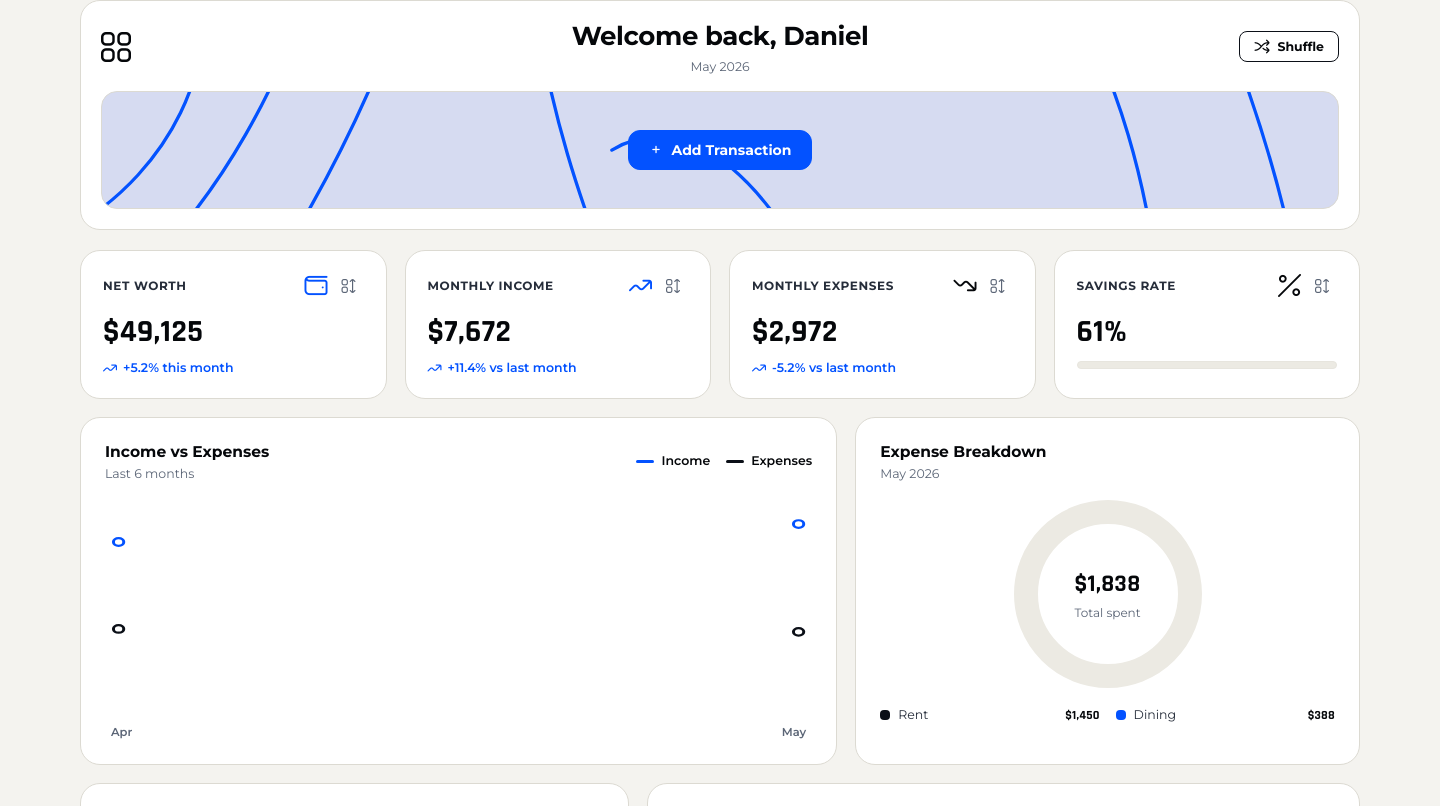
Motion.dev Patterns, Base UI Controls & Views › renders Dashboard KPI cards with Shuffle reorder and opens App Store shared-layout sheet
The image size is (1440, 806).
Expected: the heading "Welcome back, Daniel" is shown, [572, 17, 868, 56]
Expected: the text "61%" is shown, [1076, 312, 1128, 352]
// Test Shuffle reorder button (js-reorder-items)
Click the button "Shuffle" at (1289, 47), box [1240, 31, 1339, 62]
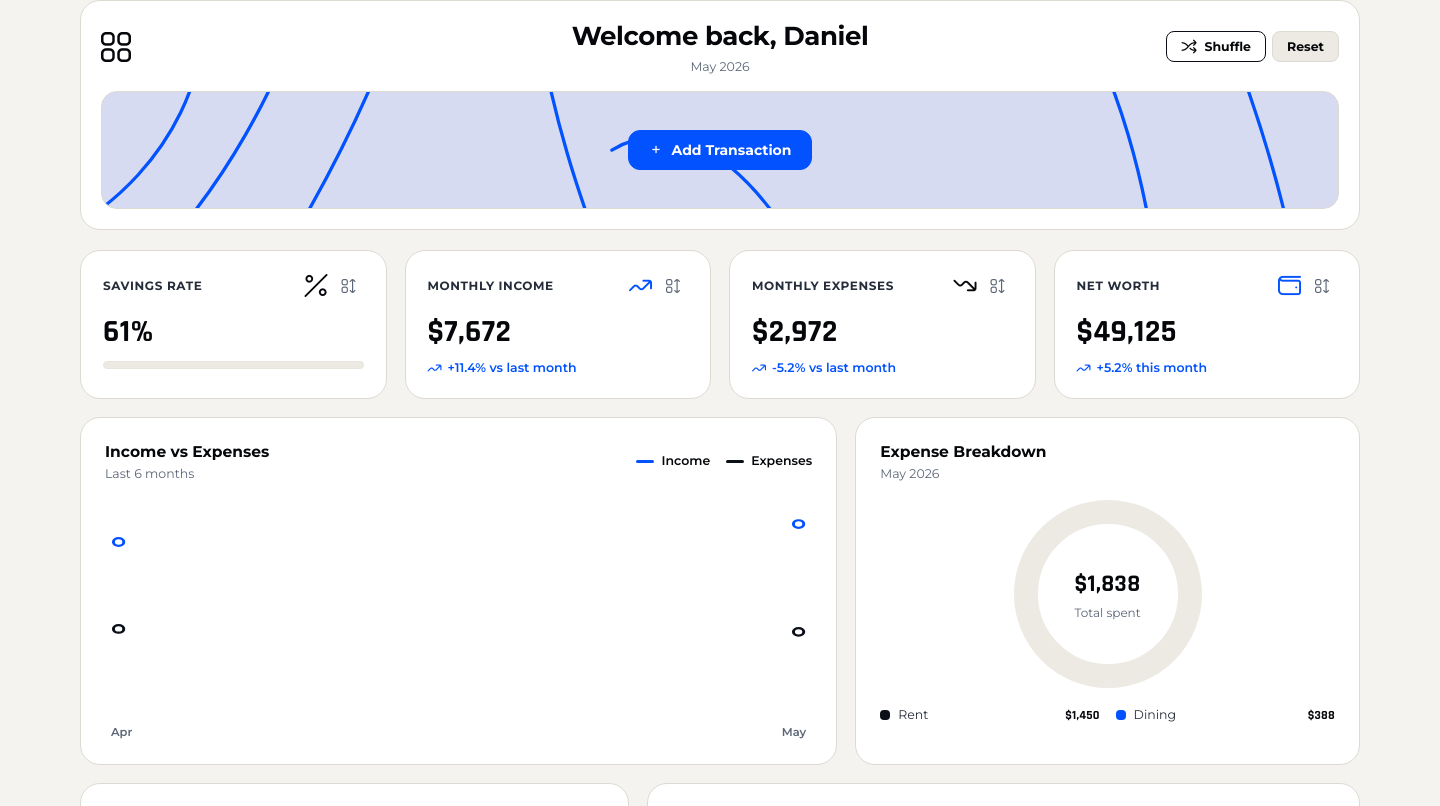
Expected: the button "Reset" is shown
Click the button "Reset" at (1306, 47), box [1272, 31, 1339, 62]
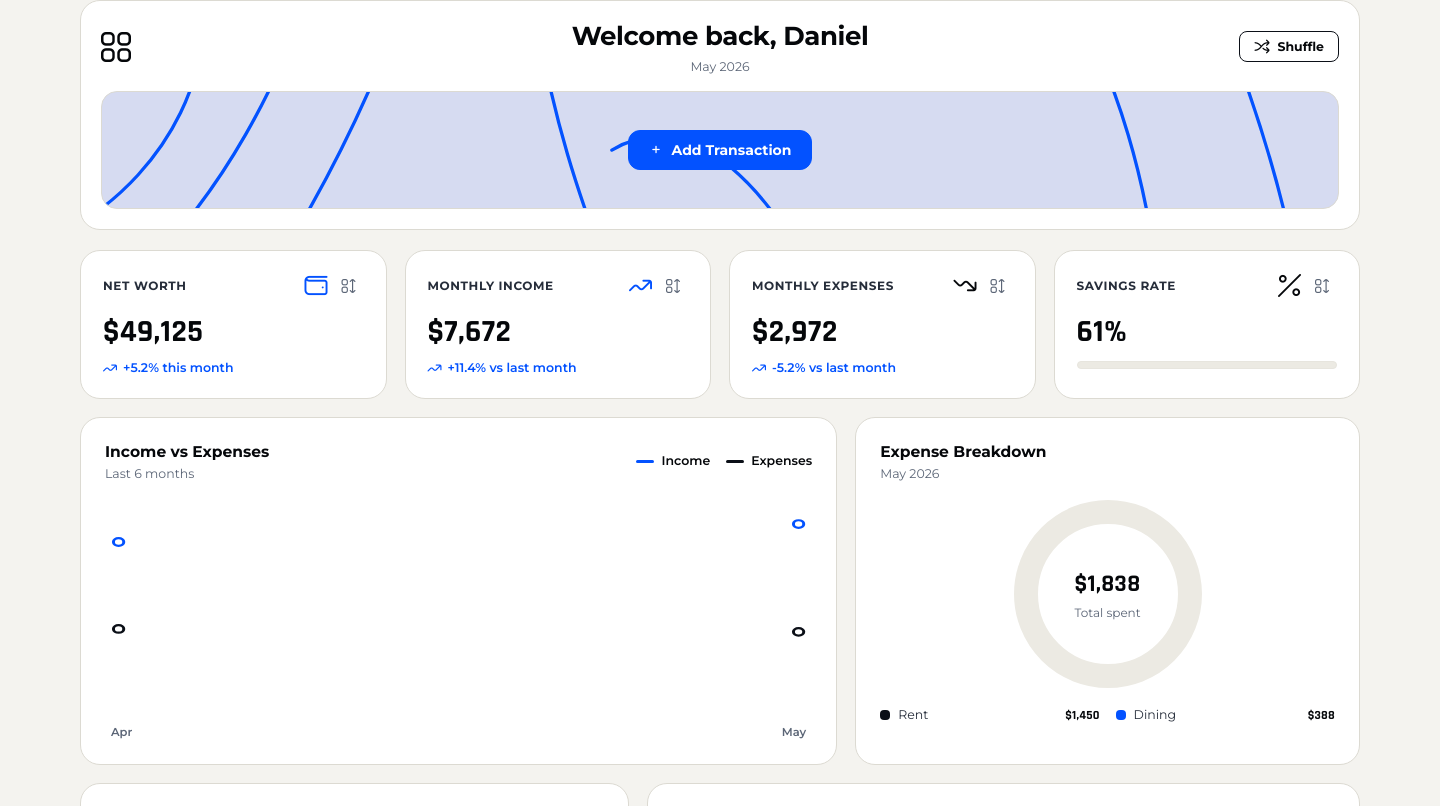
// Click Net Worth KPI card to open App Store shared-layout sheet (js-app-store)
Click the text "Net Worth" at (145, 286), box [103, 277, 187, 295]
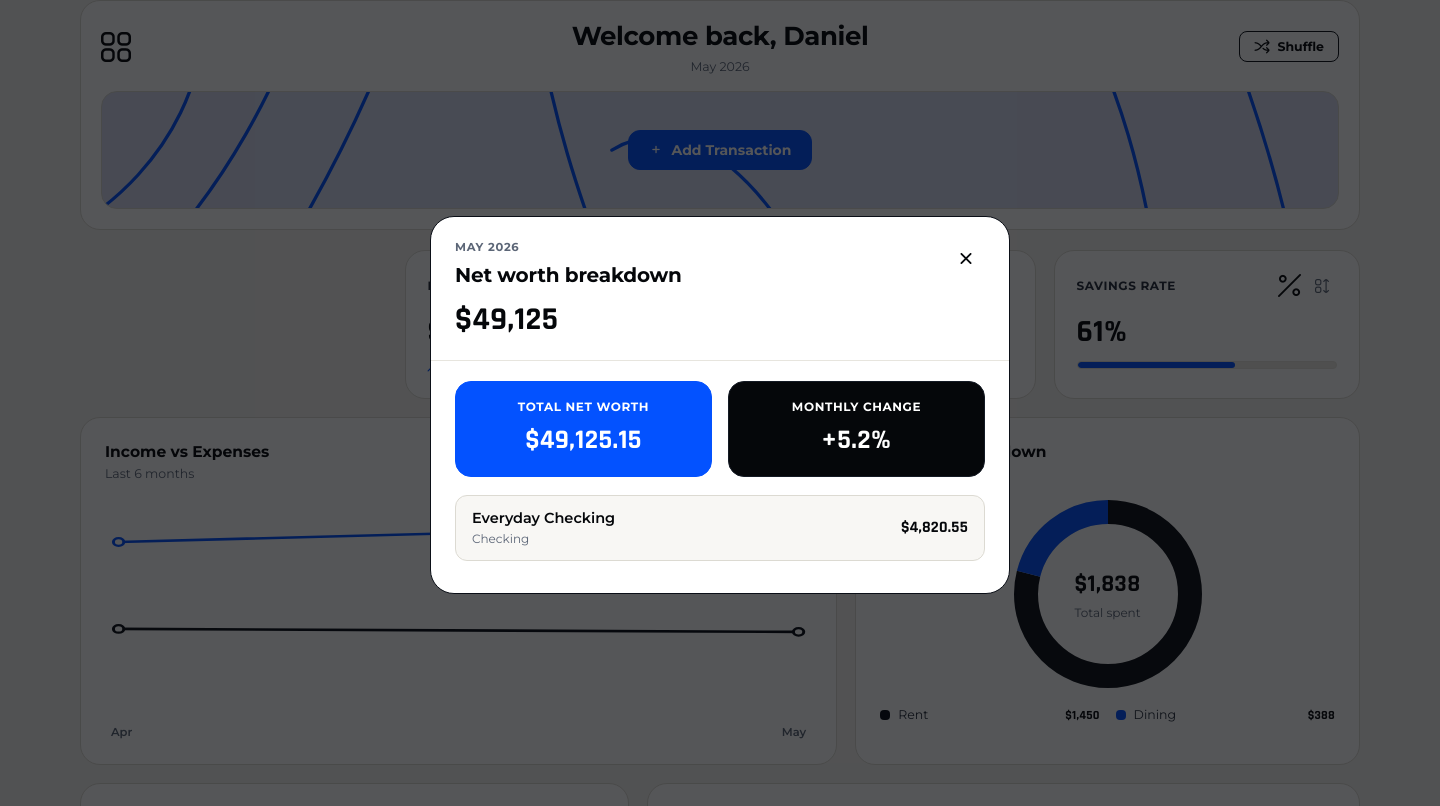
Expected: the heading "Net worth breakdown" is shown, [455, 260, 682, 290]
Expected: the text "Everyday Checking" is shown, [472, 508, 615, 530]
